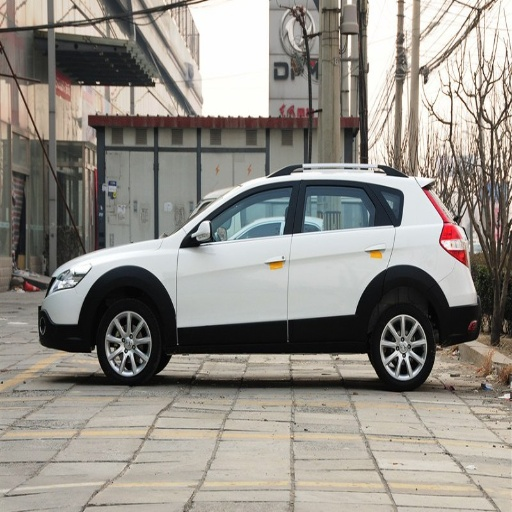back_left_door: (287, 179, 393, 343)
front_left_door: (177, 179, 300, 348)
